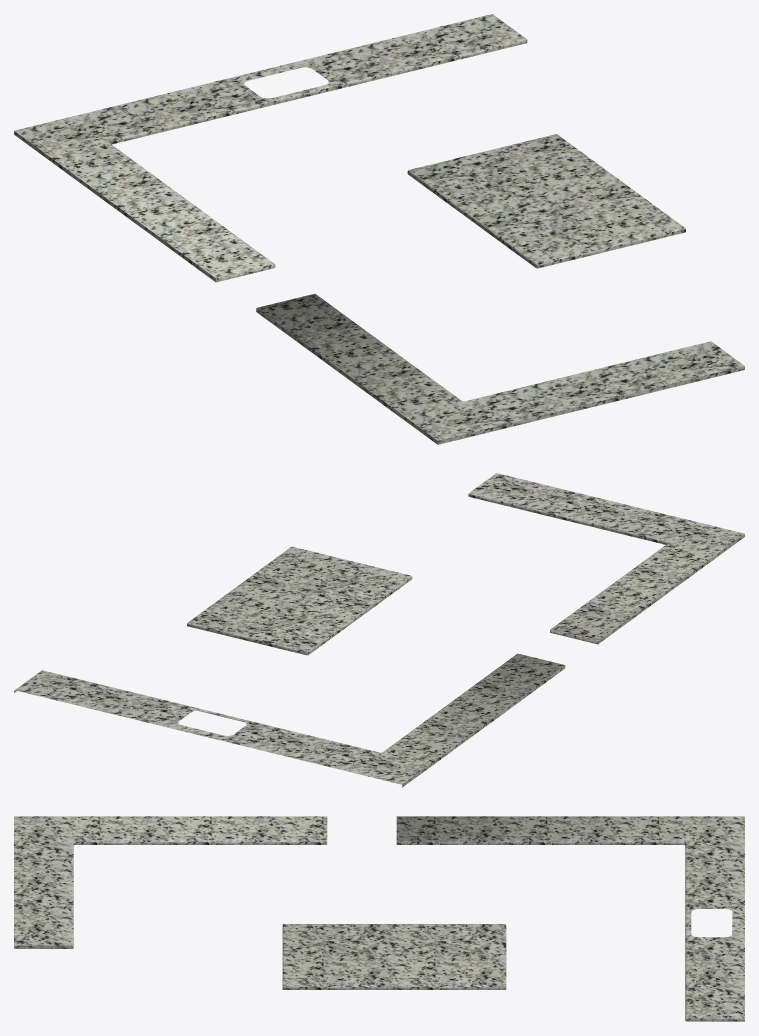
File: 2345_kitchen_Countertops_GraniteValleNevado.gltf
3 renders of one model, top to bottom at view 1: azimuth 30°, elevation 25°; view 2: azimuth 150°, elevation 25°; view 3: azimuth 270°, elevation 25°, orthographic. The views are drawn at different scales.
Parts seen in each view (by area): view 1: Countertops_Granite Valle Nevado; view 2: Countertops_Granite Valle Nevado; view 3: Countertops_Granite Valle Nevado.
Boxes of the visible parts, box(x1,y1,x2,y2) form: Countertops_Granite Valle Nevado: box(14, 14, 744, 444); Countertops_Granite Valle Nevado: box(14, 473, 744, 787); Countertops_Granite Valle Nevado: box(14, 816, 744, 1021).
Bounding box in the file's own units: 6.4 × 0.05 × 9.8.
1 material, 1 textured.
